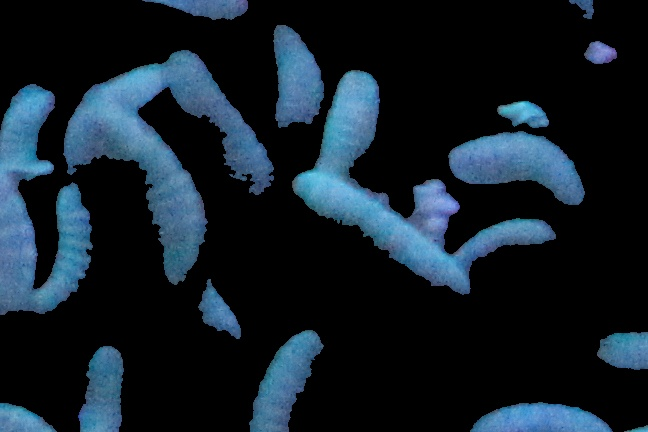larvae: (304, 181, 480, 298), (109, 120, 209, 286), (168, 51, 270, 183), (446, 132, 586, 207), (65, 73, 165, 173), (34, 186, 103, 314), (251, 325, 323, 432), (67, 338, 139, 432), (326, 71, 385, 181), (270, 32, 321, 154), (473, 391, 616, 432), (1, 125, 31, 312), (11, 86, 55, 181), (470, 217, 553, 264), (586, 330, 648, 376)
